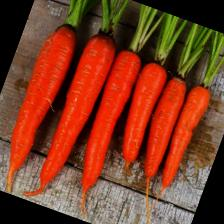carrot: (32, 27, 122, 196), (0, 17, 82, 197), (66, 45, 146, 197), (106, 58, 170, 168), (131, 72, 192, 182), (154, 80, 214, 191)
